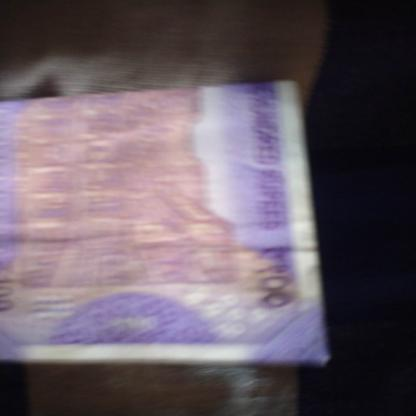New100Back: (0, 85, 320, 363)
